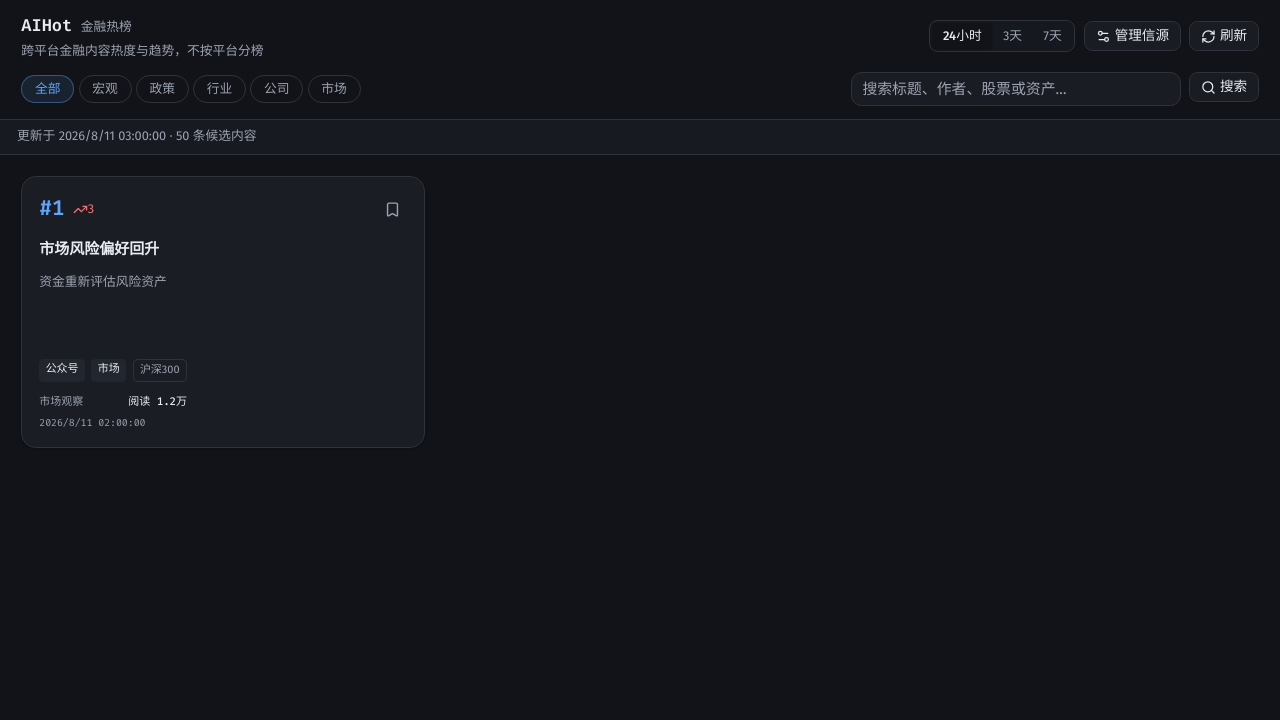
Test: AihotPanel › 管理员按需打开管理面板并查看 Provider 健康、成本与预算
Step 1. Click the button "管理信源" → [1132, 36], box [1084,21,1181,51]
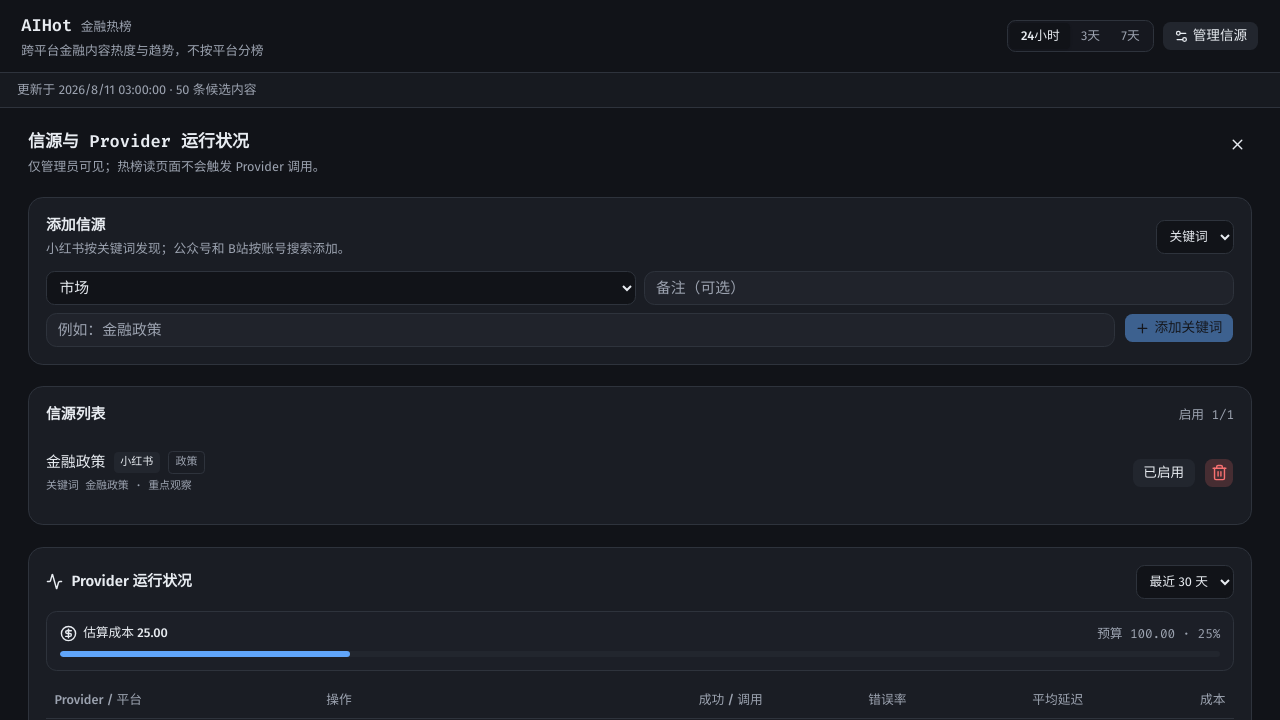
expect the heading "信源与 Provider 运行状况" is shown: met, box [28,130,249,152]
expect the text "金融政策" is shown: met, box [46,452,106,473]
expect the text "估算成本 25.00" is shown: met, box [60,625,168,642]
